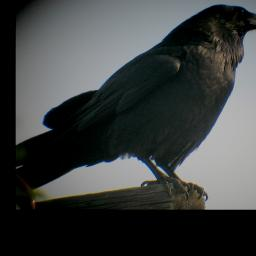Crow: (16, 2, 256, 201)
